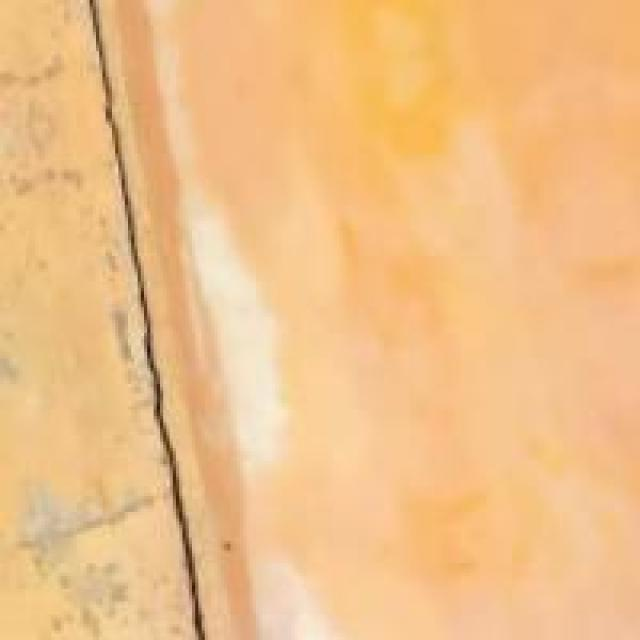Crack: (58, 0, 269, 637)
